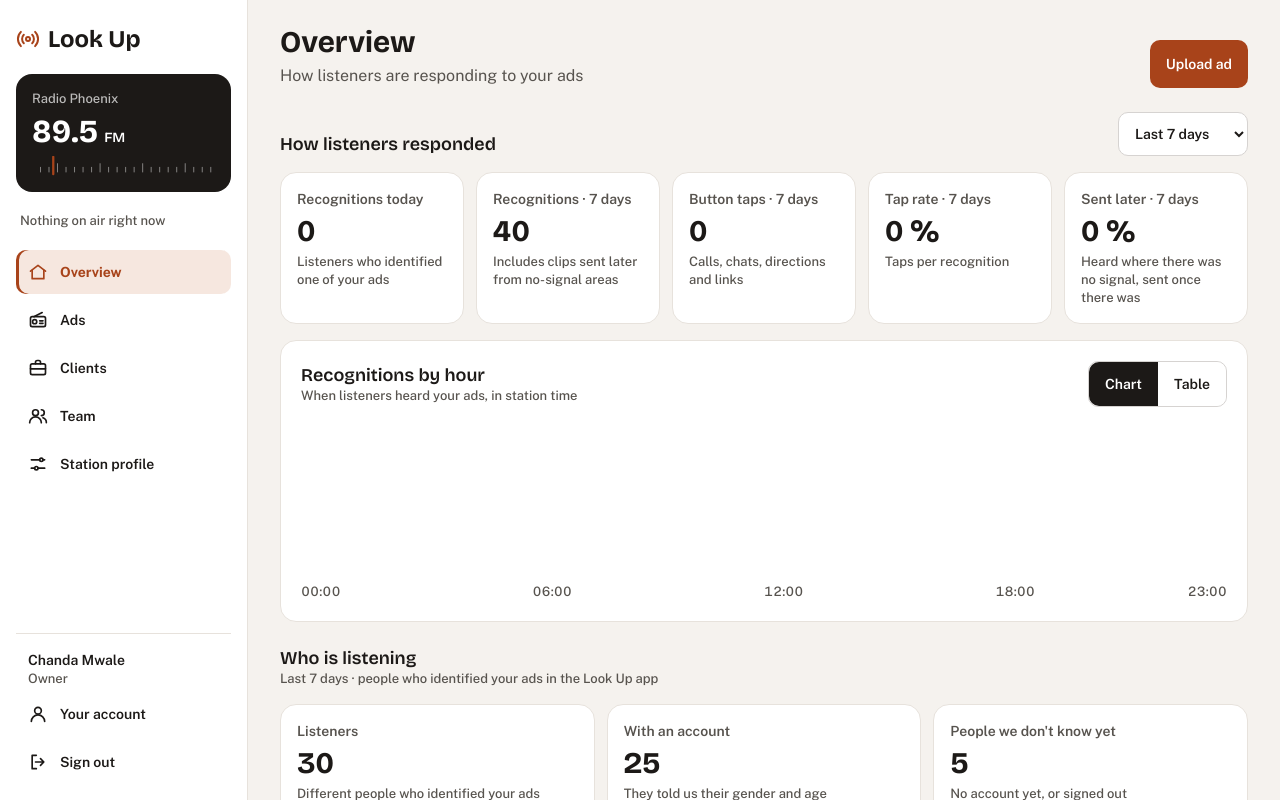
Who is listening (LA-STATS-07) › on Overview it follows the page's dates: choosing "Today" asks for today, and says so
This screenshot has width=1280, height=800.
Expected: the text "Last 7 days ·" is shown, [280,671,658,686]
Select "Today" in the dropdown named "Date range" at (1183, 134), box [1118,112,1248,156]
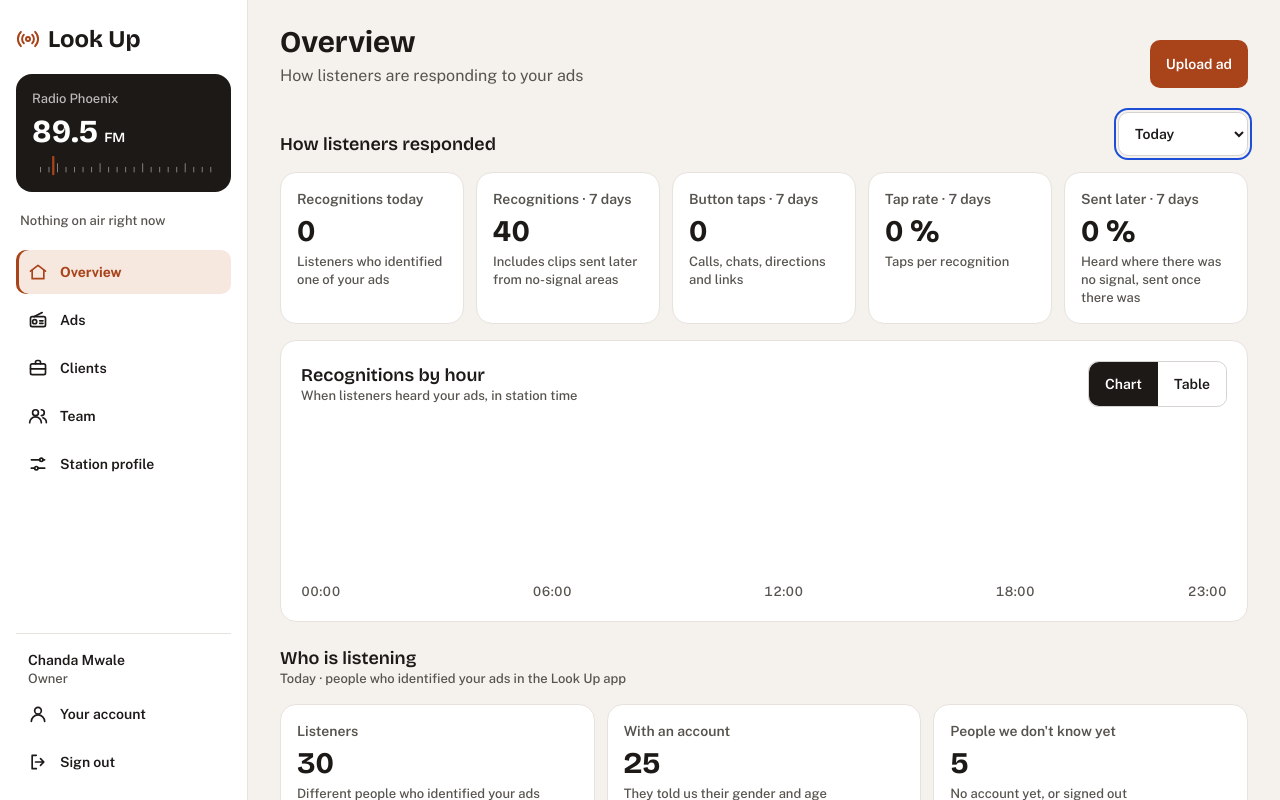
Result: the text "Today · people who identified your ads in the Look Up app" is shown at [280,670,626,688]
